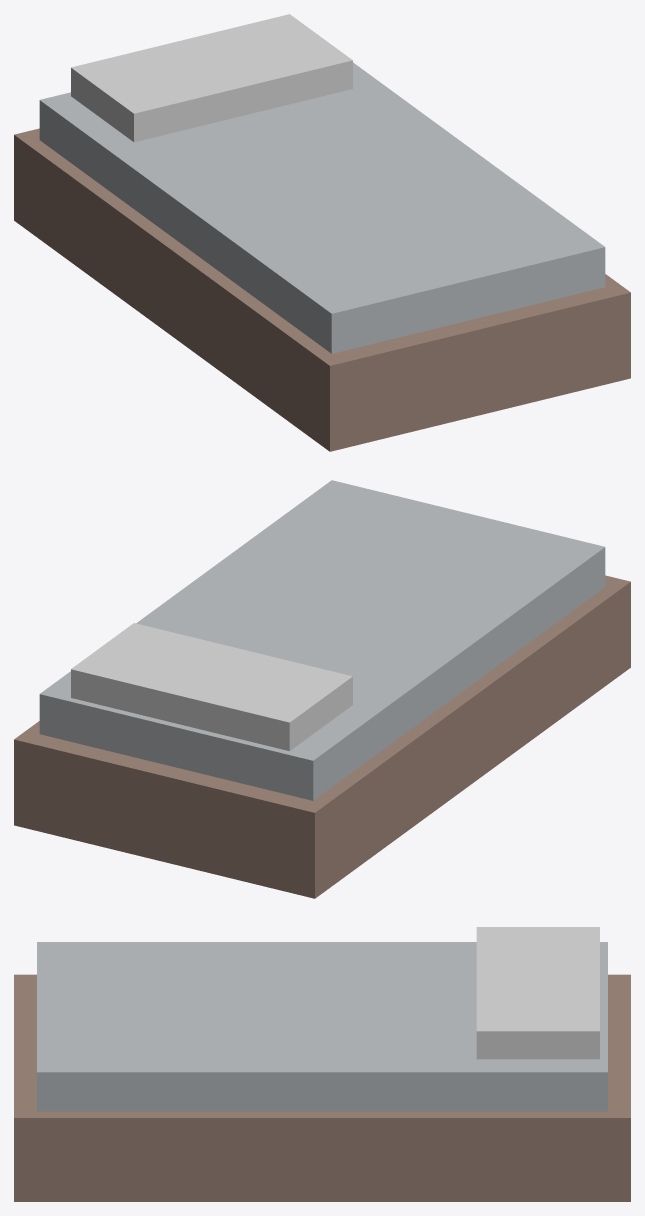
Rendered from furn_bed.glb.
3 renders of one model, top to bottom at view 1: azimuth 30°, elevation 25°; view 2: azimuth 150°, elevation 25°; view 3: azimuth 270°, elevation 25°, orthographic. The views are drawn at different scales.
Parts seen in each view (by area): view 1: furn_bed; view 2: furn_bed; view 3: furn_bed.
Part boxes in pixels (x1,y1,x2,y2): furn_bed: (14,14,630,451); furn_bed: (14,480,630,898); furn_bed: (14,927,630,1201).
Bounding box in the file's own units: 1.1 × 0.54 × 2.
